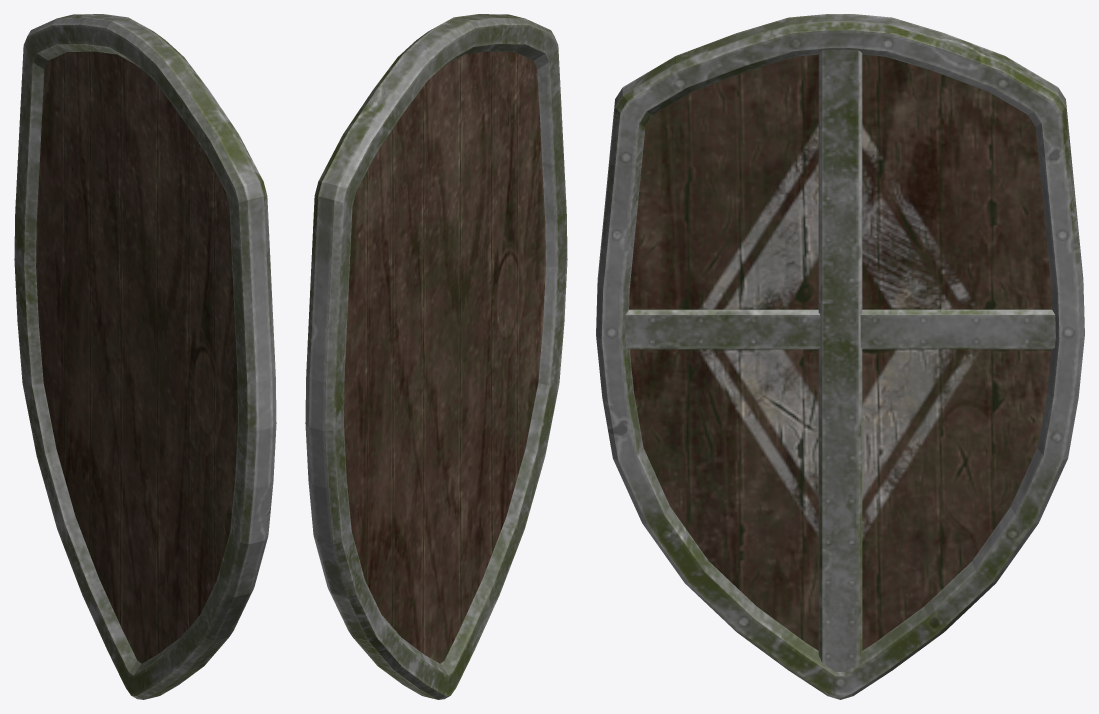
File: shield.glb
The picture shows the model from 3 angles, left to right: view 1: azimuth 30°, elevation 25°; view 2: azimuth 150°, elevation 25°; view 3: azimuth 270°, elevation 25°; orthographic projection. The views are drawn at different scales.
Parts seen in each view (by area): view 1: ShieldWood_low, ShieldRim_low; view 2: ShieldWood_low, ShieldRim_low; view 3: ShieldWood_low, ShieldRim_low, Beam01_low, Beam02_low.
Part boxes in pixels (x1=…): ShieldWood_low: x1=36, y1=51, x2=237, y2=663; ShieldRim_low: x1=14, y1=14, x2=276, y2=699; ShieldWood_low: x1=344, y1=51, x2=545, y2=663; ShieldRim_low: x1=305, y1=14, x2=567, y2=699; ShieldWood_low: x1=629, y1=54, x2=1051, y2=650; ShieldRim_low: x1=596, y1=14, x2=1084, y2=699; Beam01_low: x1=818, y1=49, x2=862, y2=671; Beam02_low: x1=625, y1=309, x2=1055, y2=349.
Bounding box in the file's own units: 15.55 × 344 × 225.
Materials: 1 (1 with a texture image).
